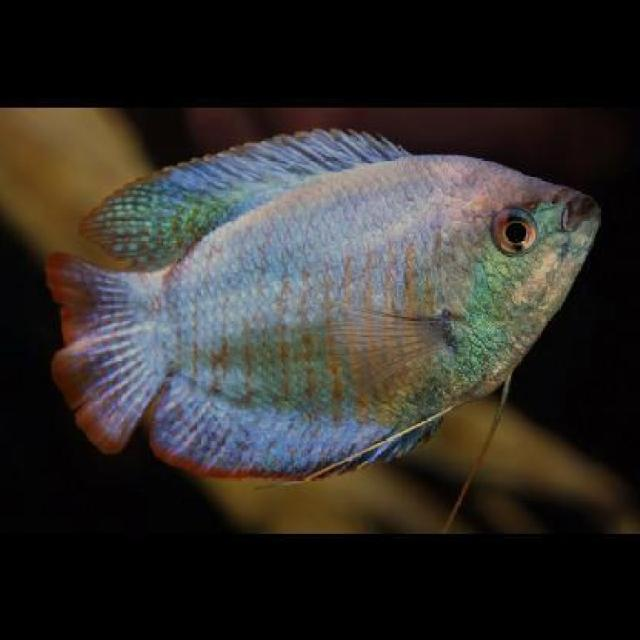Gourami: (37, 123, 603, 486)
